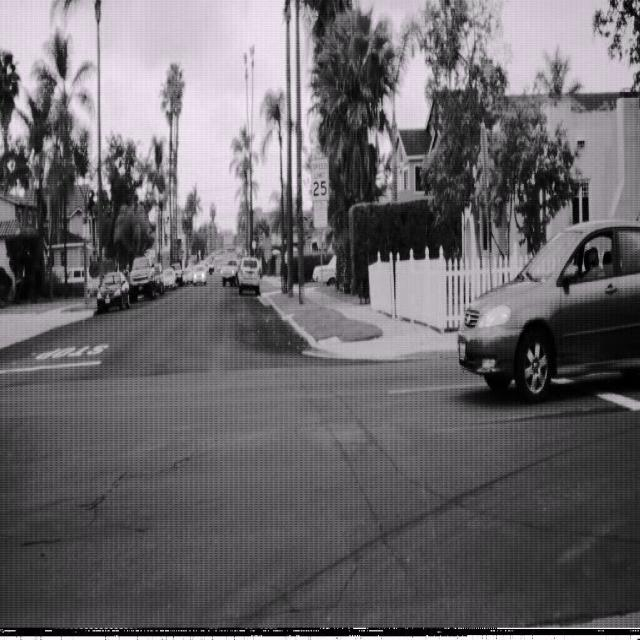speedLimit25: (310, 156, 330, 203)
